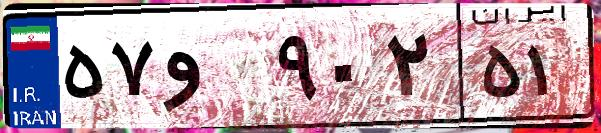0: (330, 28, 385, 110)
1: (525, 38, 570, 115)
2: (385, 28, 445, 110)
5: (57, 26, 110, 100), (475, 38, 525, 113)
7: (110, 28, 158, 98)
9: (270, 28, 330, 110)
و: (158, 20, 270, 120)
